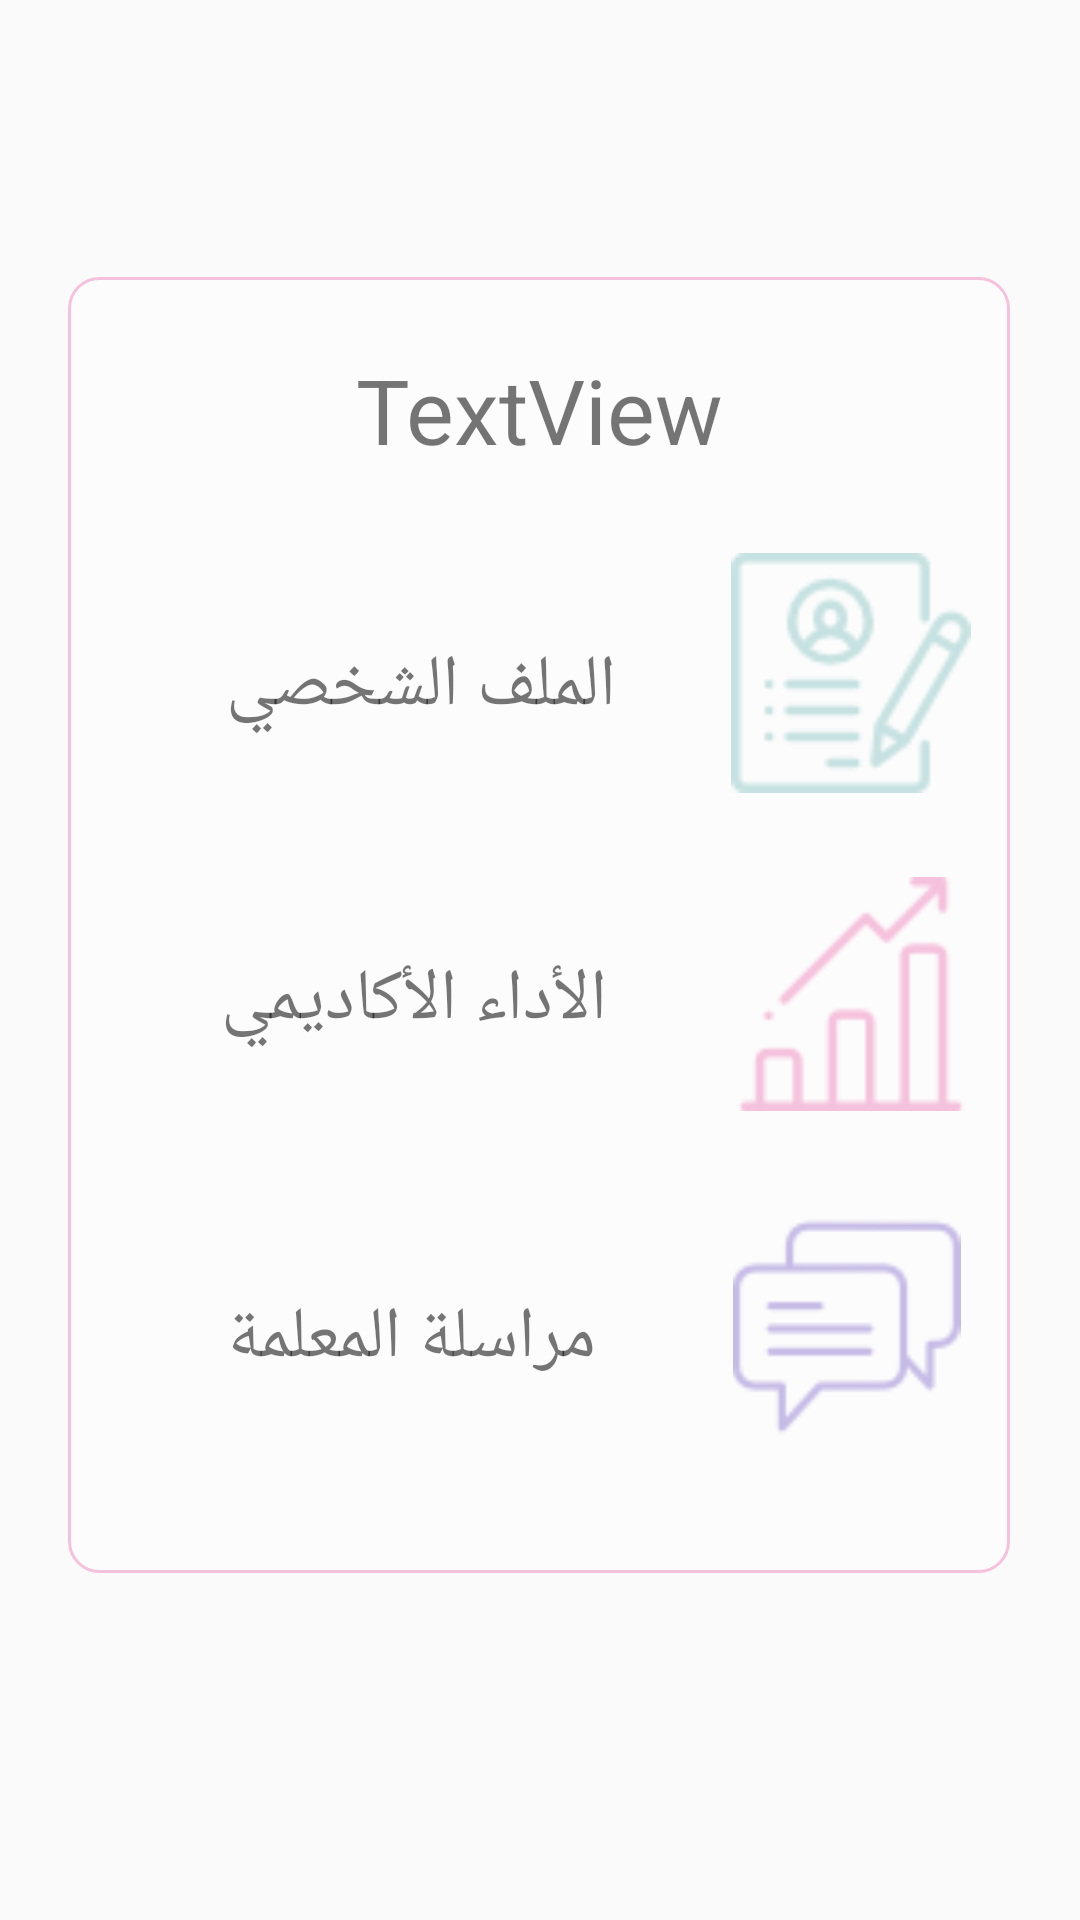

Icons on this 1080px×1920px Android screen, each with its box as (x1, y1, x2, y2):
chat: (733, 1222, 961, 1431)
performance: (741, 877, 961, 1111)
profile: (731, 553, 971, 793)
